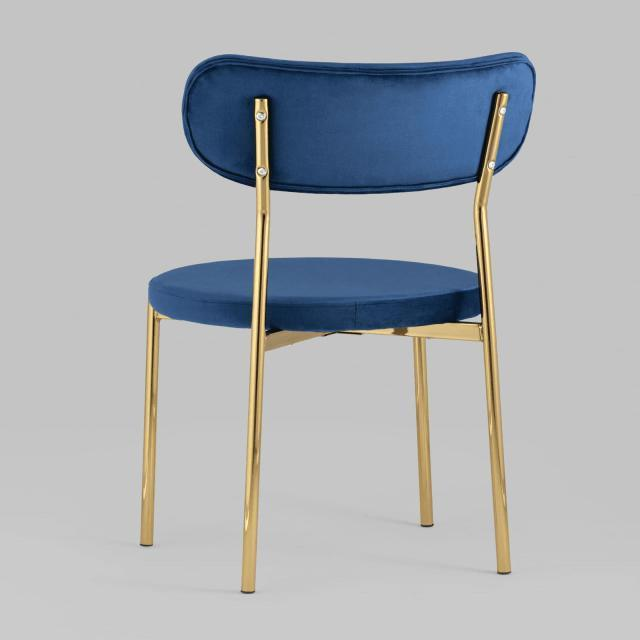chair: (137, 49, 547, 596)
